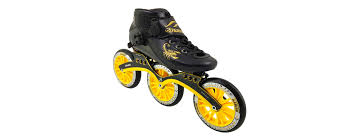roller_blade: (119, 7, 243, 126)
